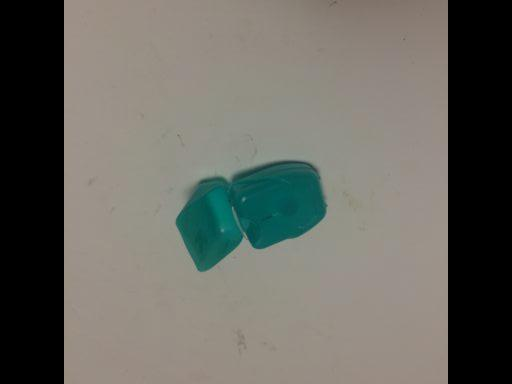paper: (176, 163, 330, 273)
trash: (176, 161, 328, 275)
